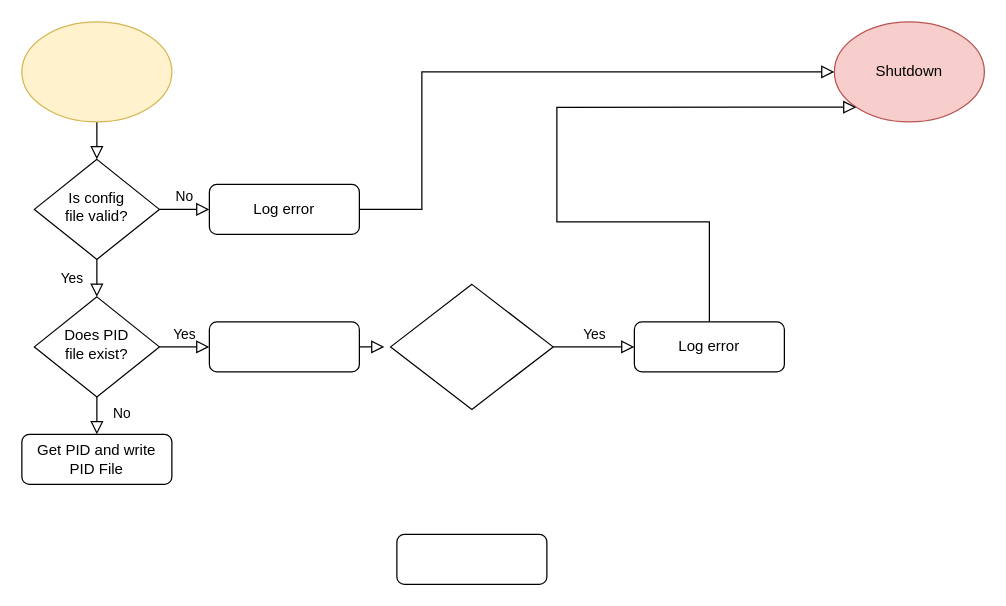
Image size: 1006x606. Some labels were removed from this diagram. Here are the shapes that lost their labels. From the top down, the centre of each, then its label:
At pixel 96 71: "Start-up".
At pixel 283 346: "Read PID from file".
At pixel 471 346: "Is process with that PID still running?".
